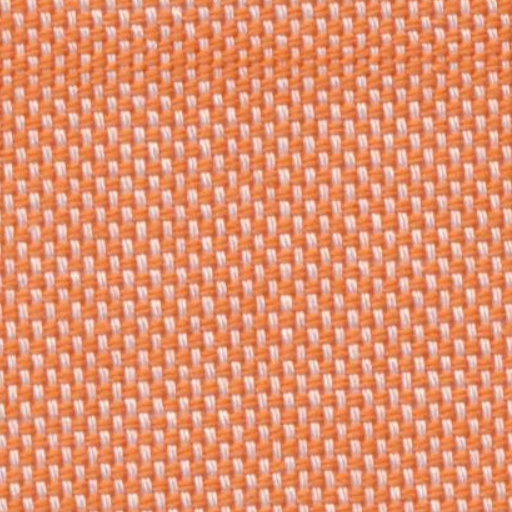TuoSha: (14, 27, 498, 110)
